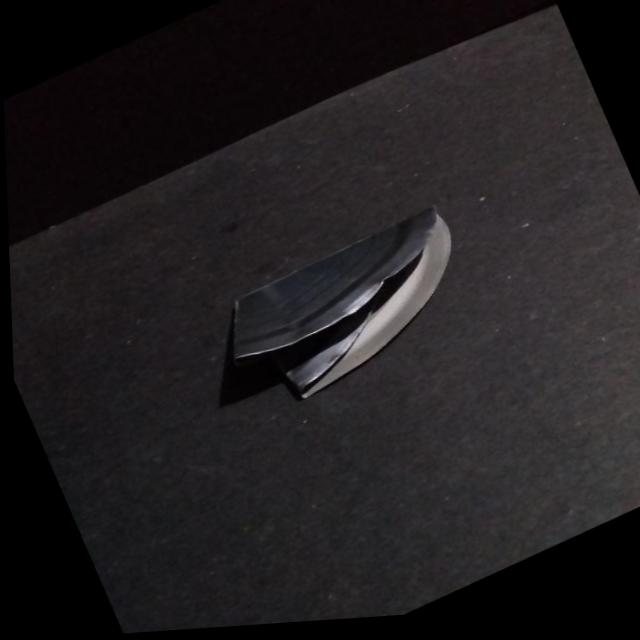metal: (221, 209, 450, 404)
